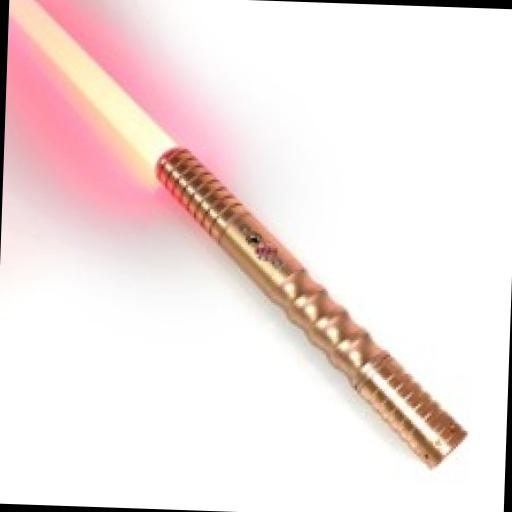lightsaber: (0, 0, 485, 471)
